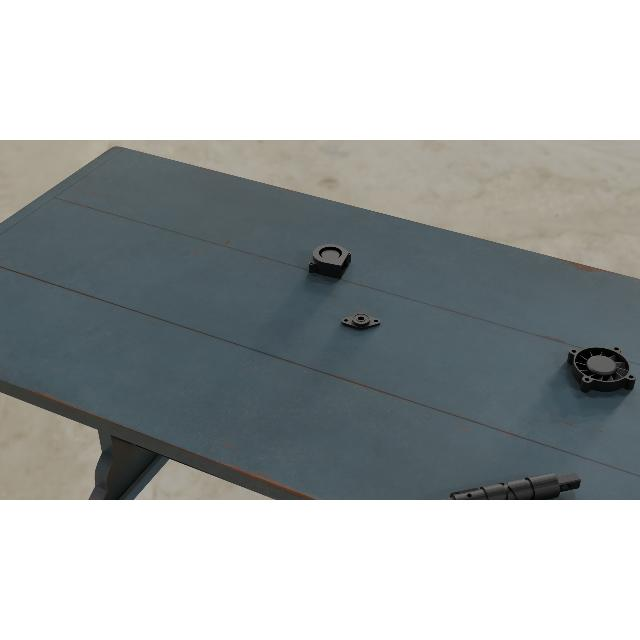Pieza1: (413, 462, 585, 500)
Pieza2: (342, 312, 381, 330)
Pieza3: (308, 242, 352, 280)
Pieza4: (566, 346, 638, 394)
